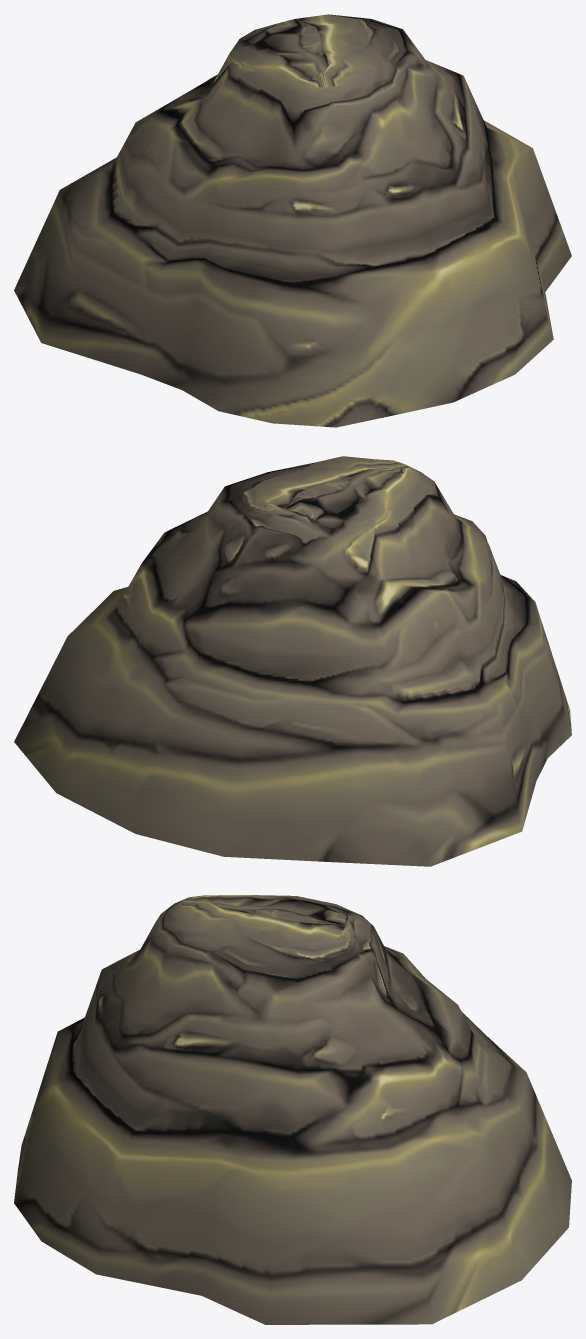
Rendered from Prop_Cliff_04.FBX.
3 views of the same model, one above another, from view 1: azimuth 30°, elevation 25°; view 2: azimuth 150°, elevation 25°; view 3: azimuth 270°, elevation 25° (orthographic). The views are drawn at different scales.
Parts seen in each view (by area): view 1: Prop_Cliff_04; view 2: Prop_Cliff_04; view 3: Prop_Cliff_04.
Boxes of the visible parts, x1,y1,x2,y2 form: Prop_Cliff_04: (14, 14, 571, 427); Prop_Cliff_04: (14, 456, 571, 866); Prop_Cliff_04: (14, 895, 571, 1324).
Bounding box in the file's own units: 4.89 × 2.59 × 4.65.
